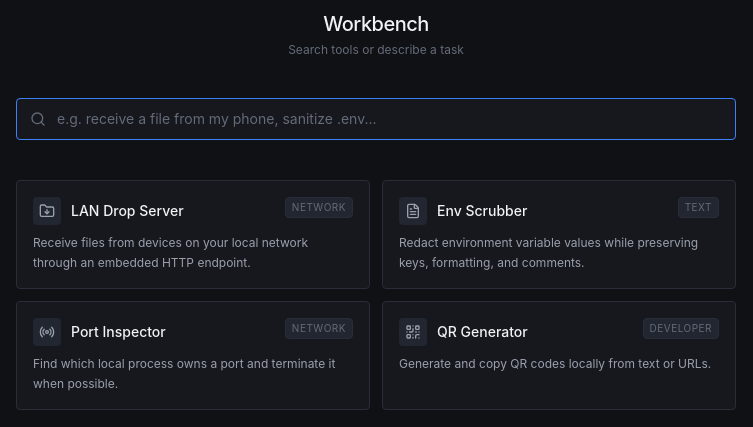
Scenario: LauncherPage › filters tiles as the user types an intent query
Type "receive file from my iphone" into the search field at (376, 119), box [16,98,736,140]
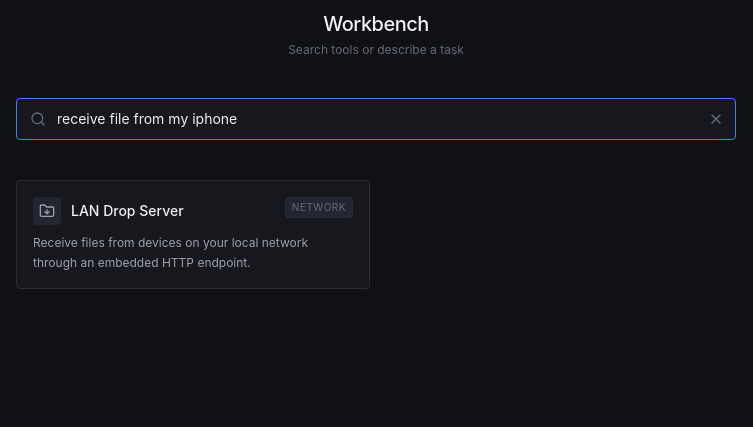
Expected: the heading "LAN Drop Server" is shown, [71,201,184,221]
Expected: the link "Env Scrubber" is gone
